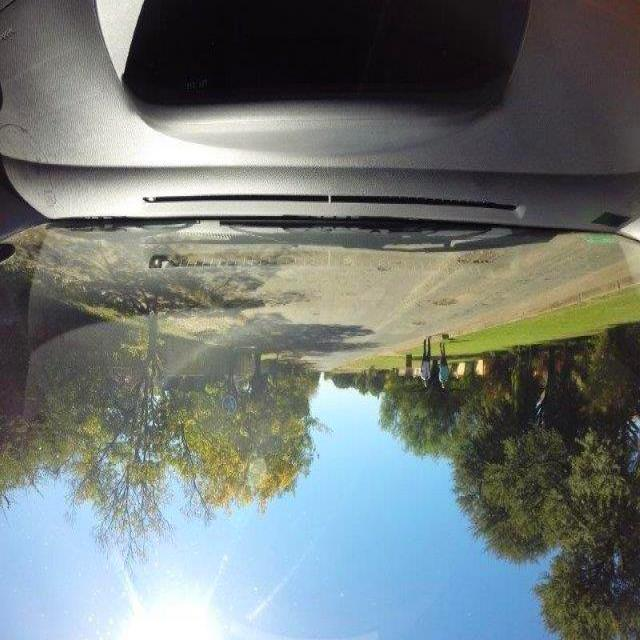lubang: (454, 252, 507, 274), (374, 256, 408, 276), (429, 296, 460, 312), (411, 321, 427, 331)
